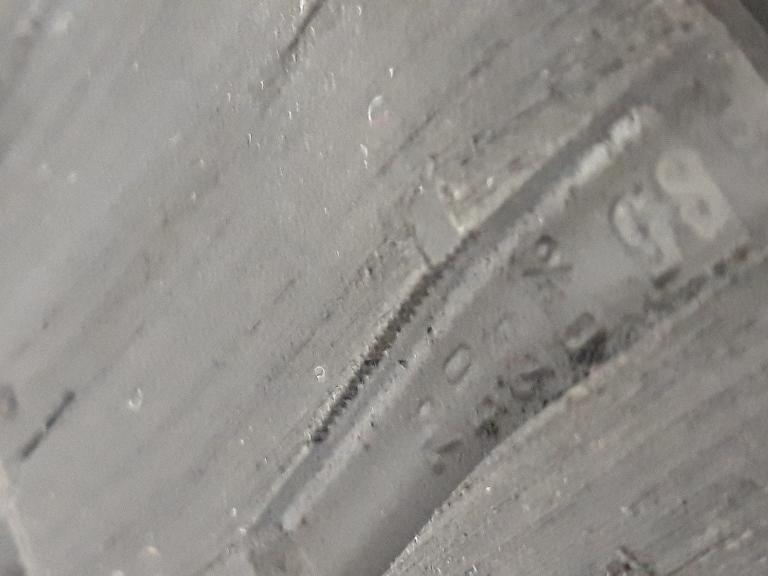temoin:0: (394, 184, 485, 301)
